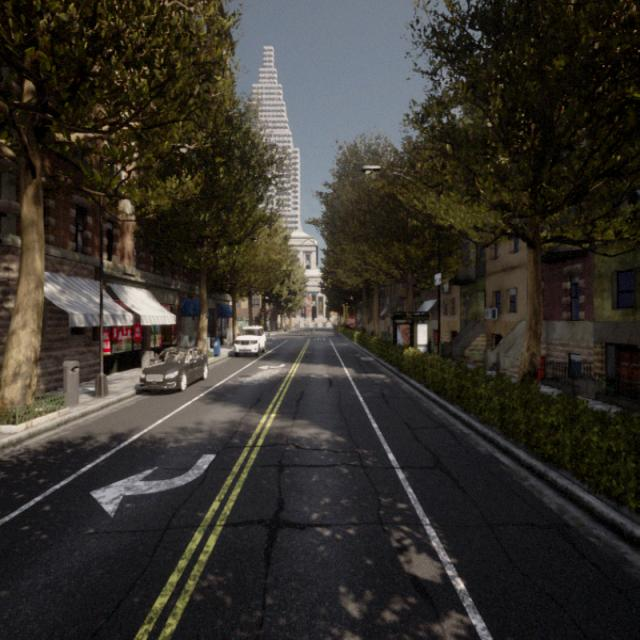stop sign: (345, 316, 360, 332)
